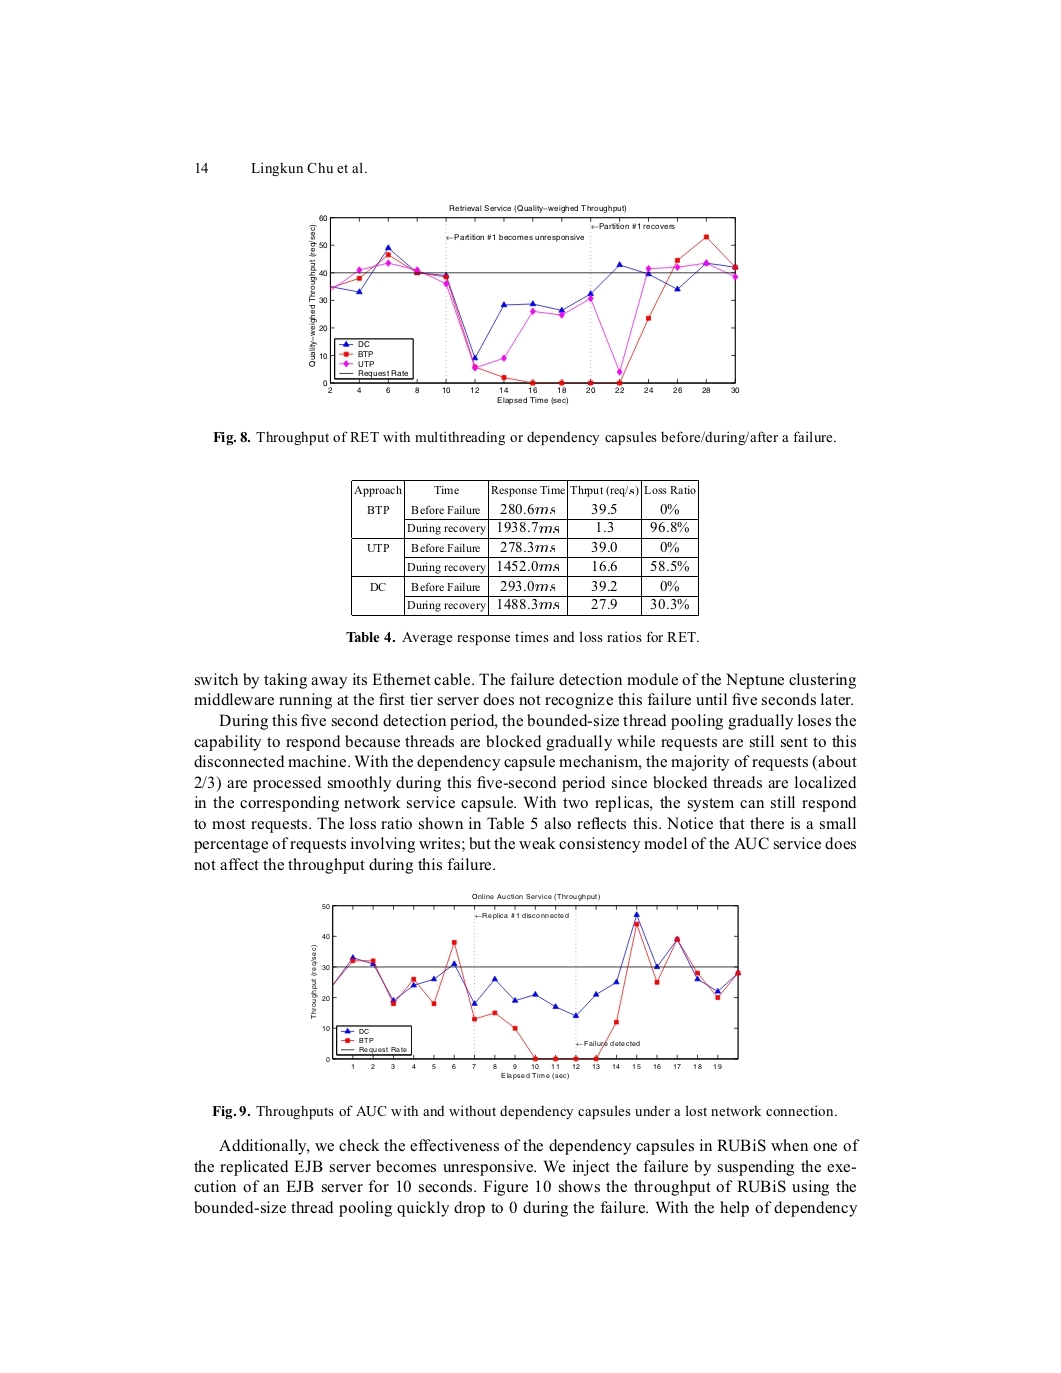Table: (351, 479, 698, 616)
figure: (309, 204, 739, 405), (310, 898, 741, 1079)
